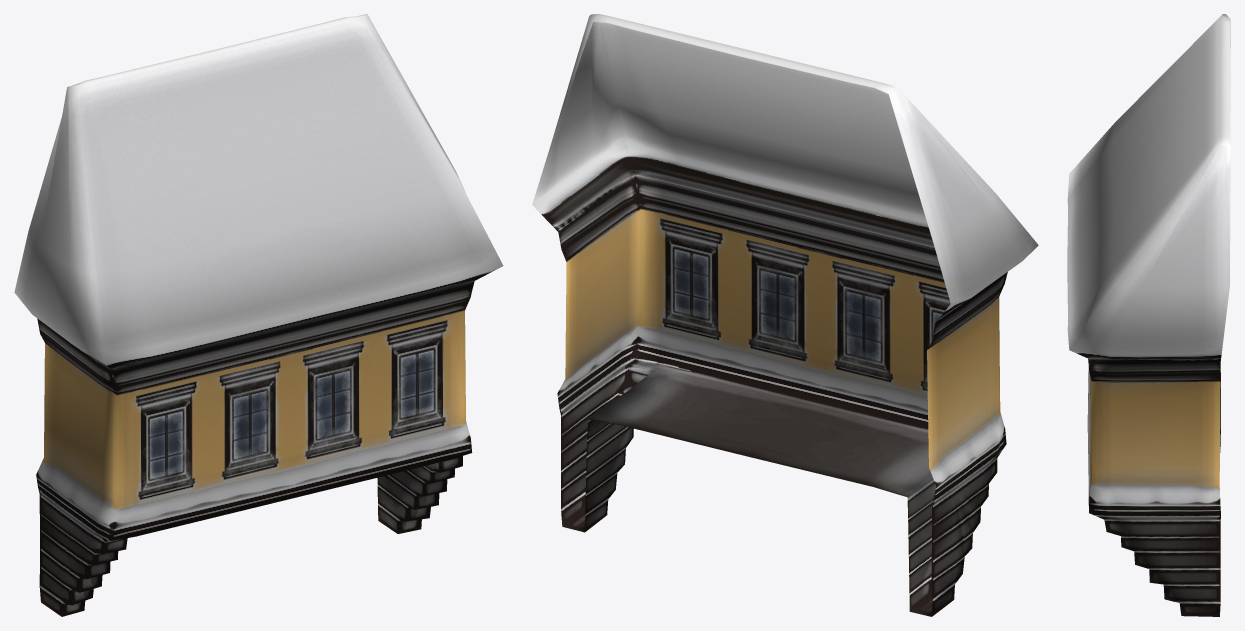
Rendered from Extension-1.FBX.
3 views of the same model, side by side, from view 1: azimuth 30°, elevation 25°; view 2: azimuth 150°, elevation 25°; view 3: azimuth 270°, elevation 25° (orthographic). The views are drawn at different scales.
Visible parts, largest first — view 1: Extension; view 2: Extension; view 3: Extension.
Boxes of the visible parts, x1,y1,x2,y2 form: Extension: (14, 14, 503, 616); Extension: (532, 14, 1038, 616); Extension: (1067, 14, 1230, 616).
Bounding box in the file's own units: 53.36 × 61.99 × 20.
Materials: 1 (1 with a texture image).
